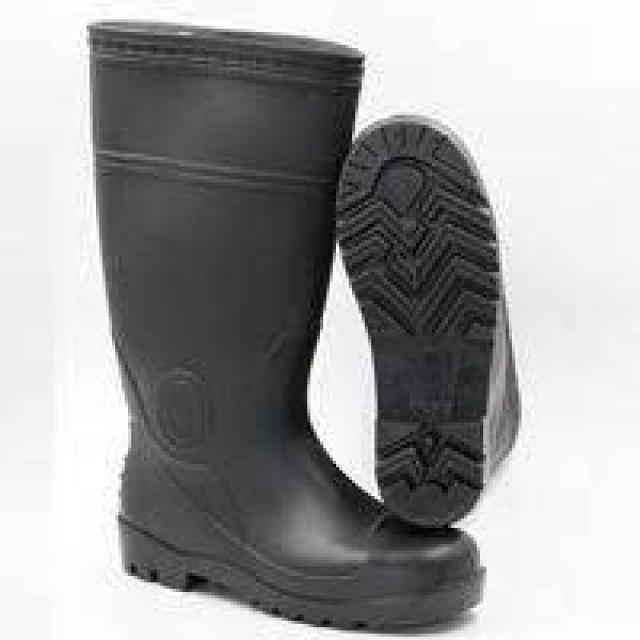shoes: (87, 18, 481, 625), (334, 117, 524, 526)
